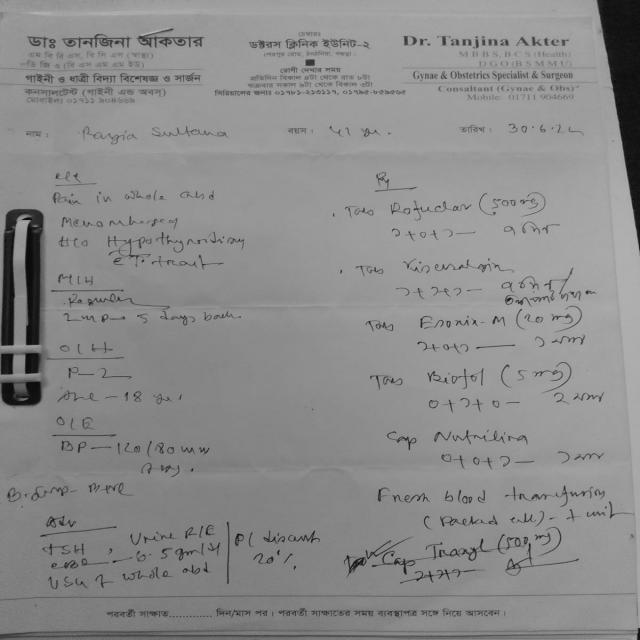Biofol: (418, 364, 493, 391)
Esonix M: (411, 312, 511, 335)
Nutrilina: (427, 428, 532, 448)
Rofuclav: (378, 195, 481, 222)
Visceralgine: (396, 253, 512, 281)
